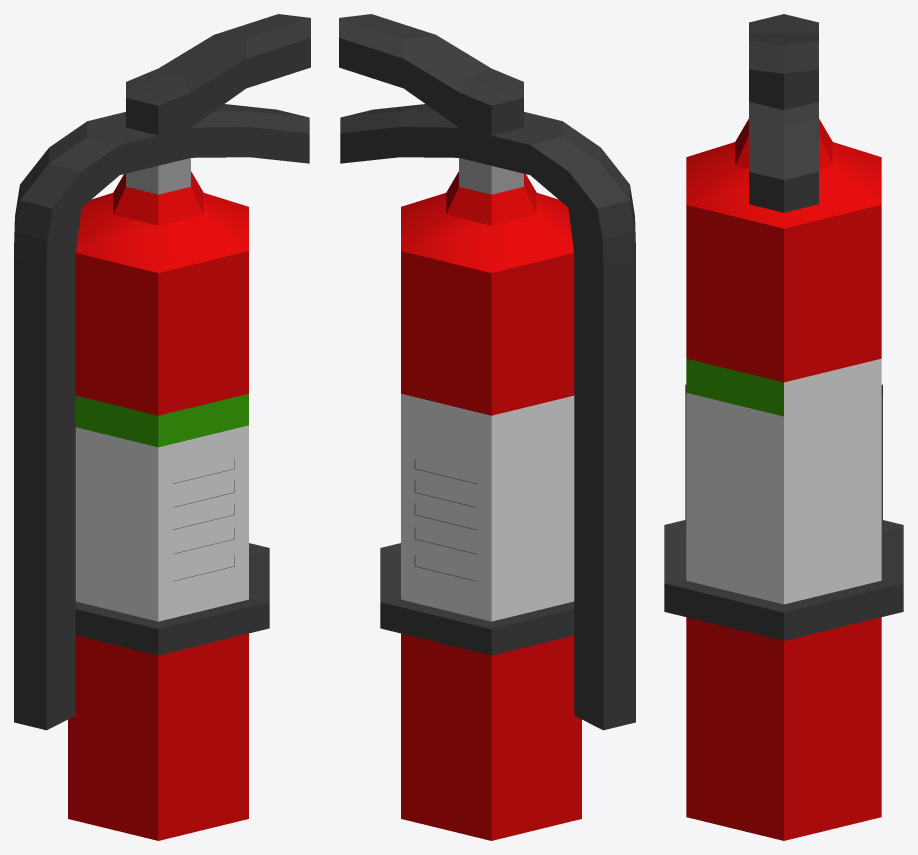
File: Fire_Extinguisher.fbx
3 views of the same model, side by side, from view 1: azimuth 30°, elevation 25°; view 2: azimuth 150°, elevation 25°; view 3: azimuth 270°, elevation 25° (orthographic). The views are drawn at different scales.
Parts seen in each view (by area): view 1: Fire_Extinguisher; view 2: Fire_Extinguisher; view 3: Fire_Extinguisher.
Boxes of the visible parts, x1,y1,x2,y2 form: Fire_Extinguisher: [14, 14, 310, 840]; Fire_Extinguisher: [339, 14, 635, 840]; Fire_Extinguisher: [664, 14, 903, 840].
Size of the model in its own units: 5.35 by 12.77 by 3.46.
